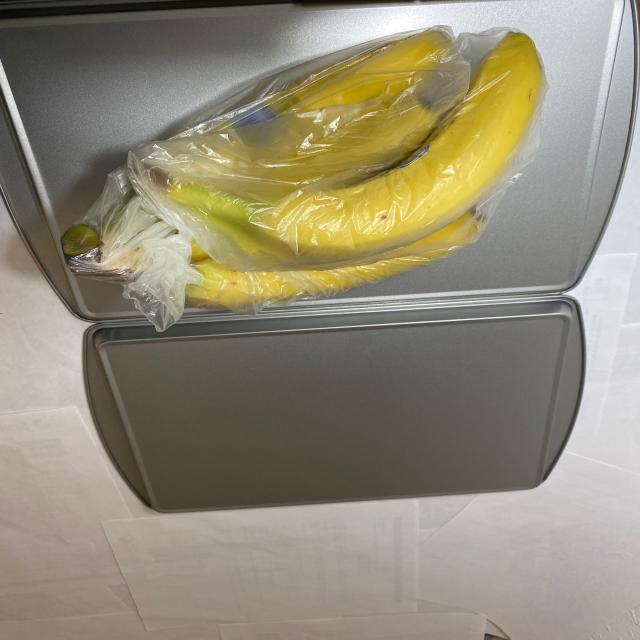banana: (52, 19, 548, 313)
